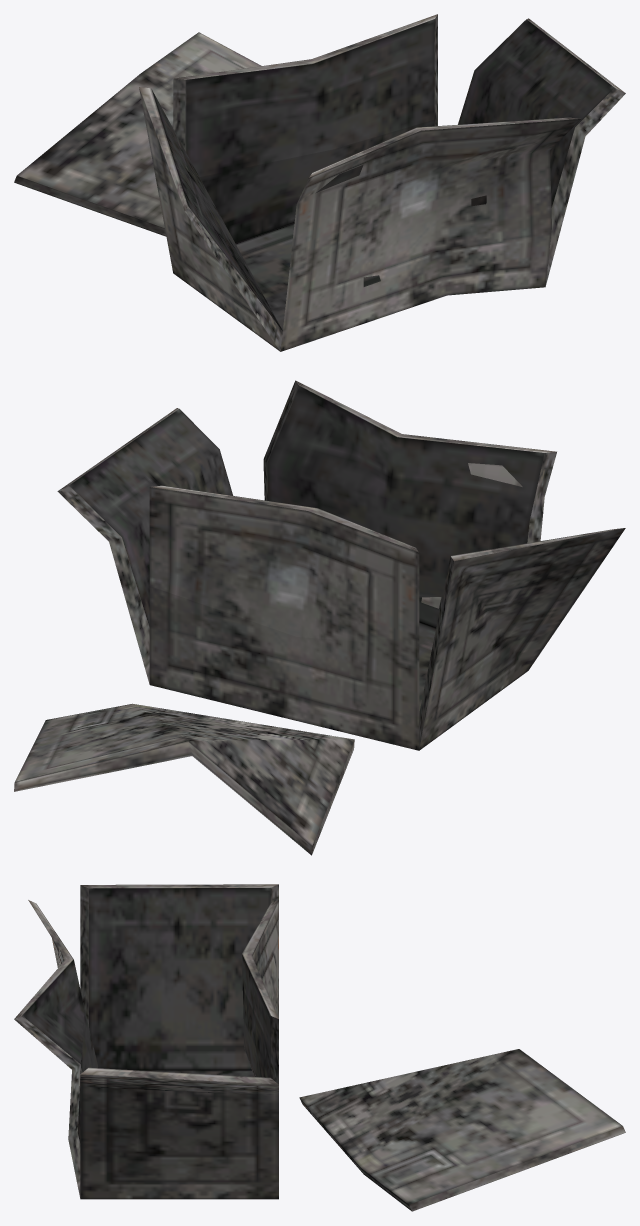
Rendered from Model_Box_04_Wrecked.fbx.
The picture shows the model from 3 angles, top to bottom: view 1: azimuth 30°, elevation 25°; view 2: azimuth 150°, elevation 25°; view 3: azimuth 270°, elevation 25°; orthographic projection. The views are drawn at different scales.
Visible parts, largest first — view 1: Box_04_Wrecked; view 2: Box_04_Wrecked; view 3: Box_04_Wrecked.
Part boxes in pixels (bbox=[...]): Box_04_Wrecked: bbox=[14, 14, 625, 351]; Box_04_Wrecked: bbox=[14, 380, 625, 855]; Box_04_Wrecked: bbox=[14, 884, 625, 1211].
Size of the model in its own units: 243 by 101 by 308.
